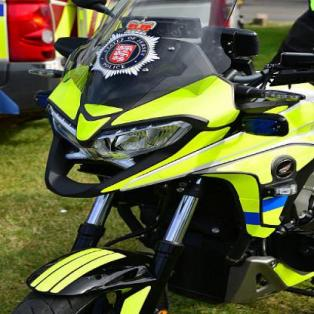Motocicleta: (29, 13, 313, 313)
